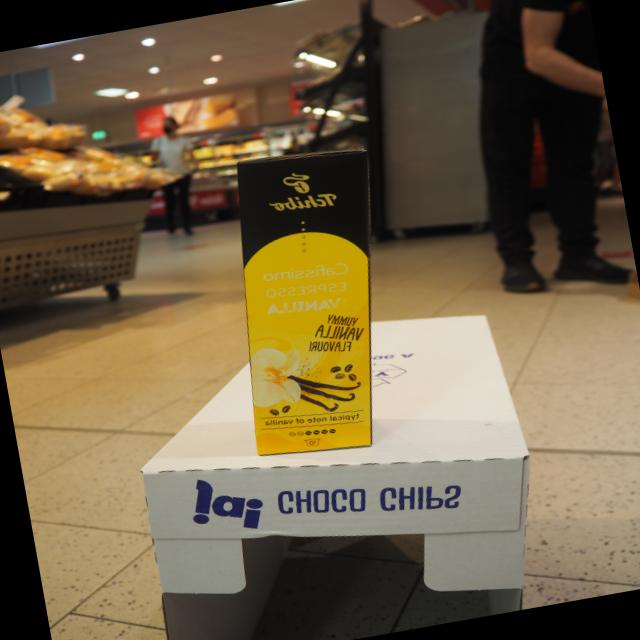Simo Es Vanilla: (233, 143, 376, 457)
